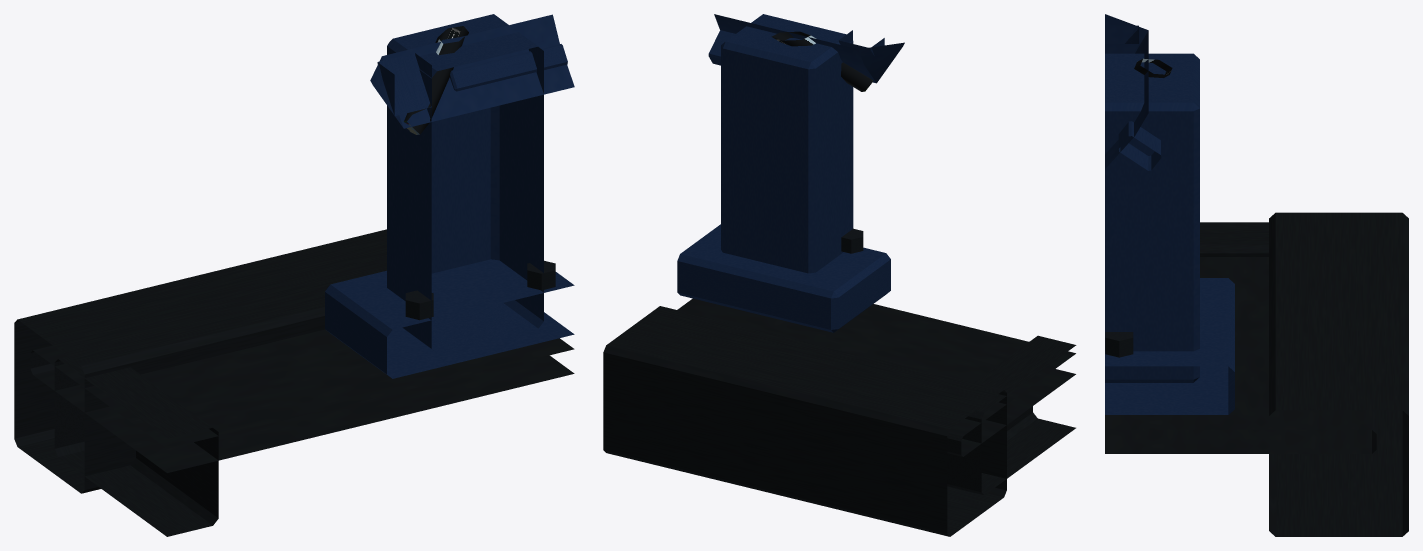
Rendered from cell_3.obj.
3 renders of one model, left to right at view 1: azimuth 30°, elevation 25°; view 2: azimuth 150°, elevation 25°; view 3: azimuth 270°, elevation 25°, orthographic. The views are drawn at different scales.
Parts seen in each view (by area): view 1: cell_3; view 2: cell_3; view 3: cell_3.
Part boxes in pixels (x1=…): cell_3: x1=14, y1=14, x2=574, y2=536; cell_3: x1=603, y1=14, x2=1076, y2=536; cell_3: x1=1105, y1=14, x2=1408, y2=536.
Size of the model in its own units: 1 by 1 by 0.65.
